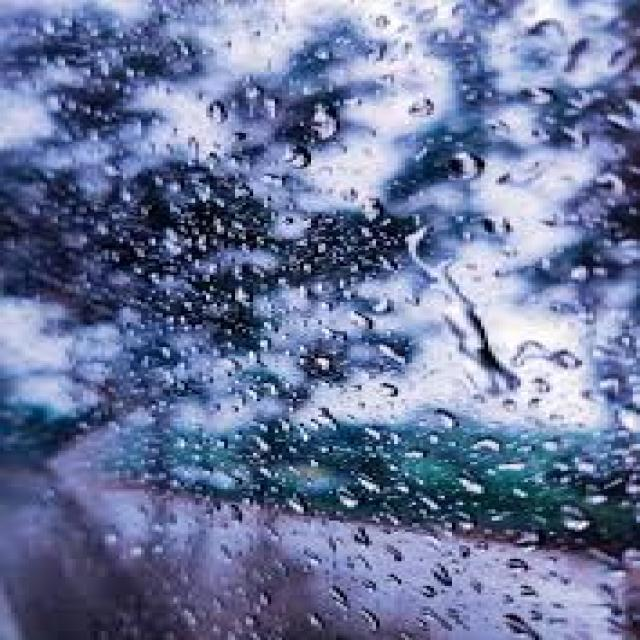raindrop: (291, 95, 358, 153), (434, 140, 498, 194), (516, 339, 592, 384), (449, 432, 522, 470), (356, 287, 418, 329), (592, 90, 640, 139), (546, 501, 602, 542), (468, 206, 522, 248), (339, 604, 401, 640), (586, 162, 640, 202), (400, 88, 450, 130), (376, 332, 436, 367), (318, 479, 372, 515), (202, 92, 249, 130), (421, 558, 479, 586), (347, 198, 392, 226)
